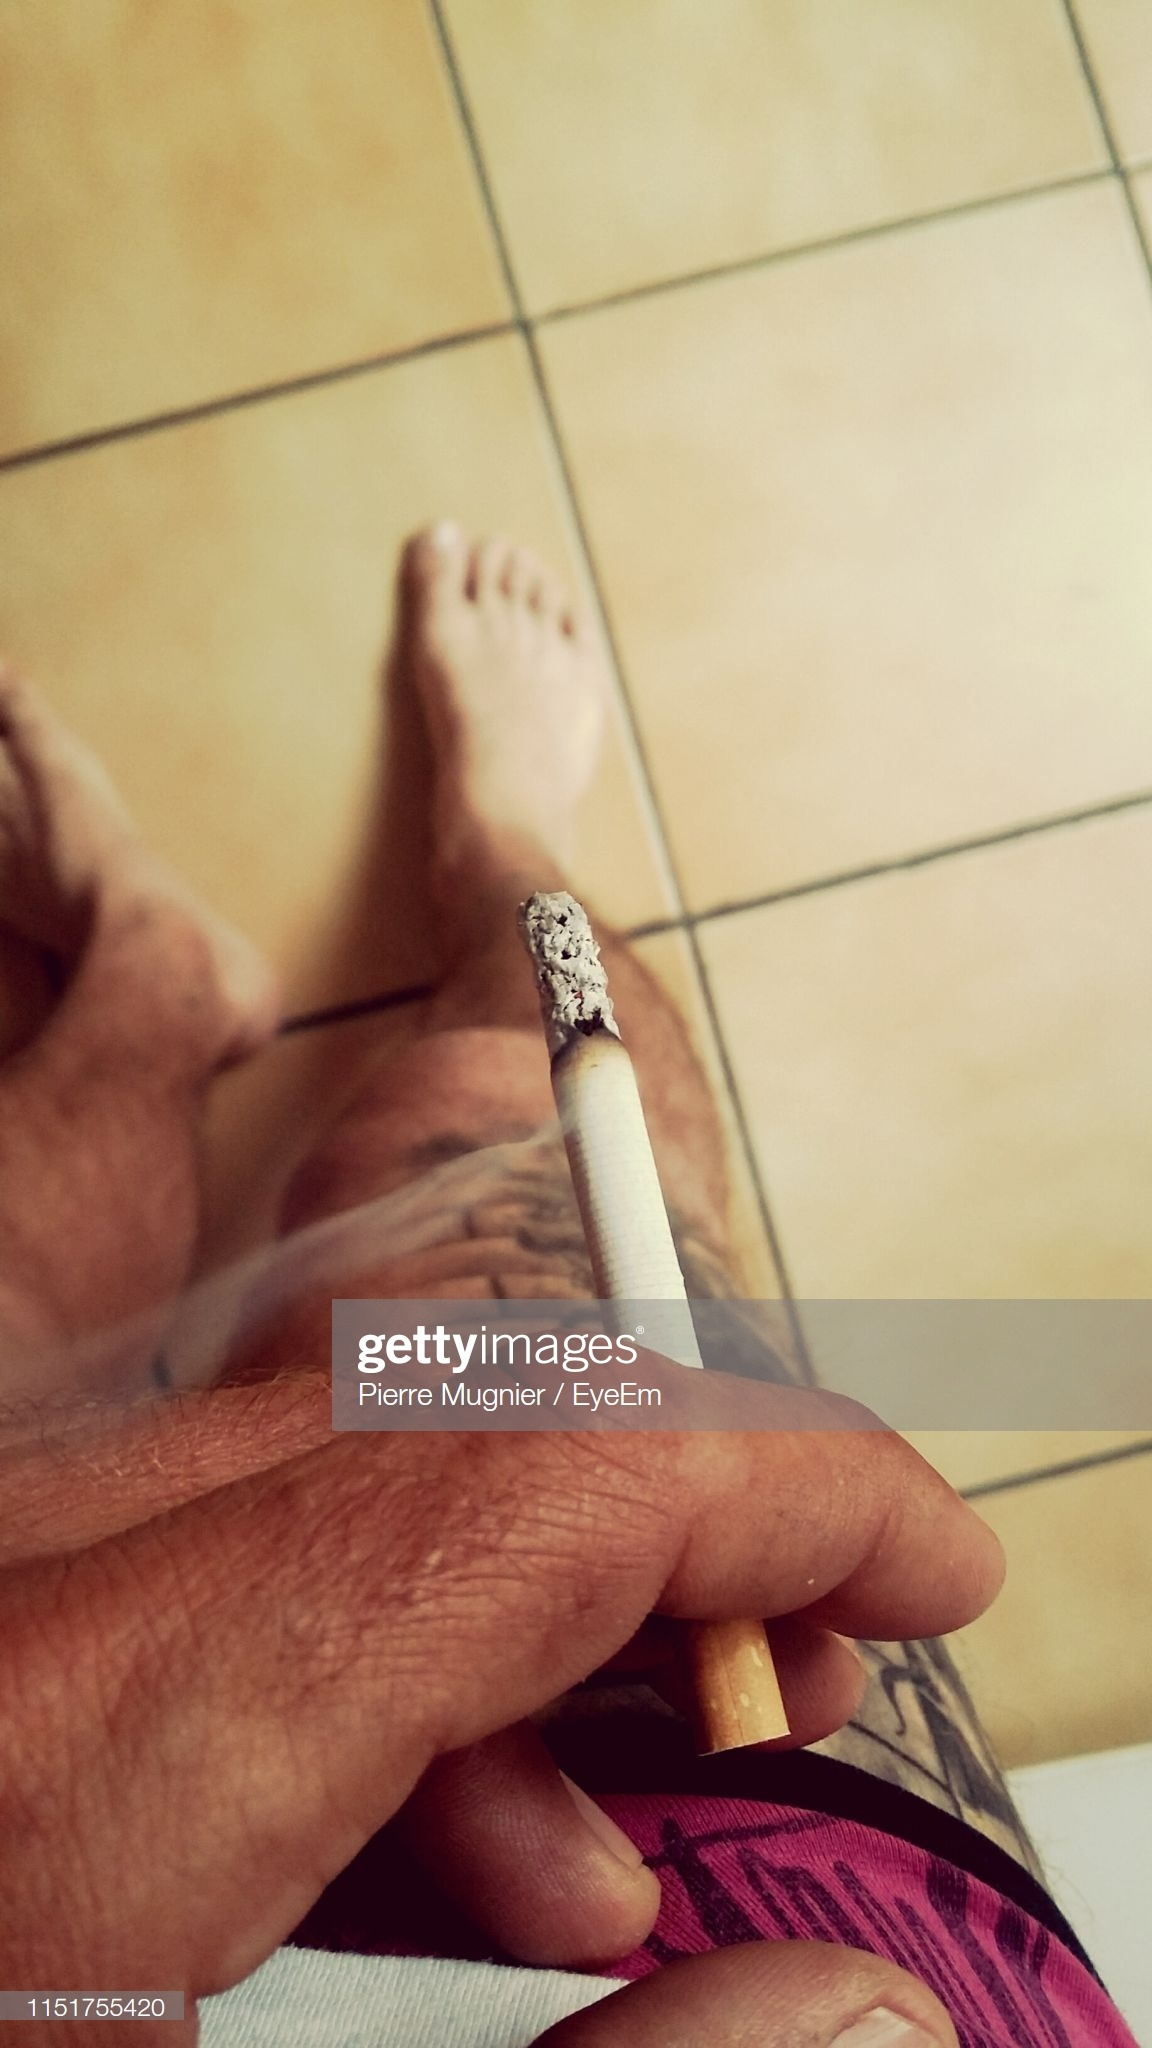sigaretta: (530, 892, 776, 1777)
